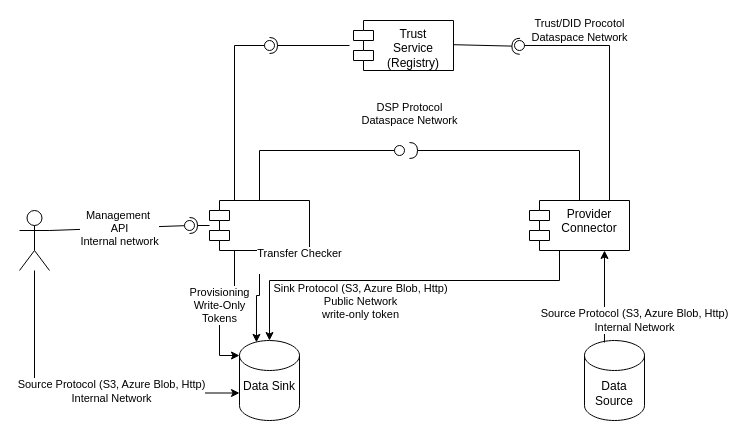
Some shapes in this 746 by 438 pixel diagram are drawn without their labels. The centre of each missing label's shape, as x and y in pixels:
"Admin" goes at pixel 34 240.
"Consumer Connector" goes at pixel 259 225.
